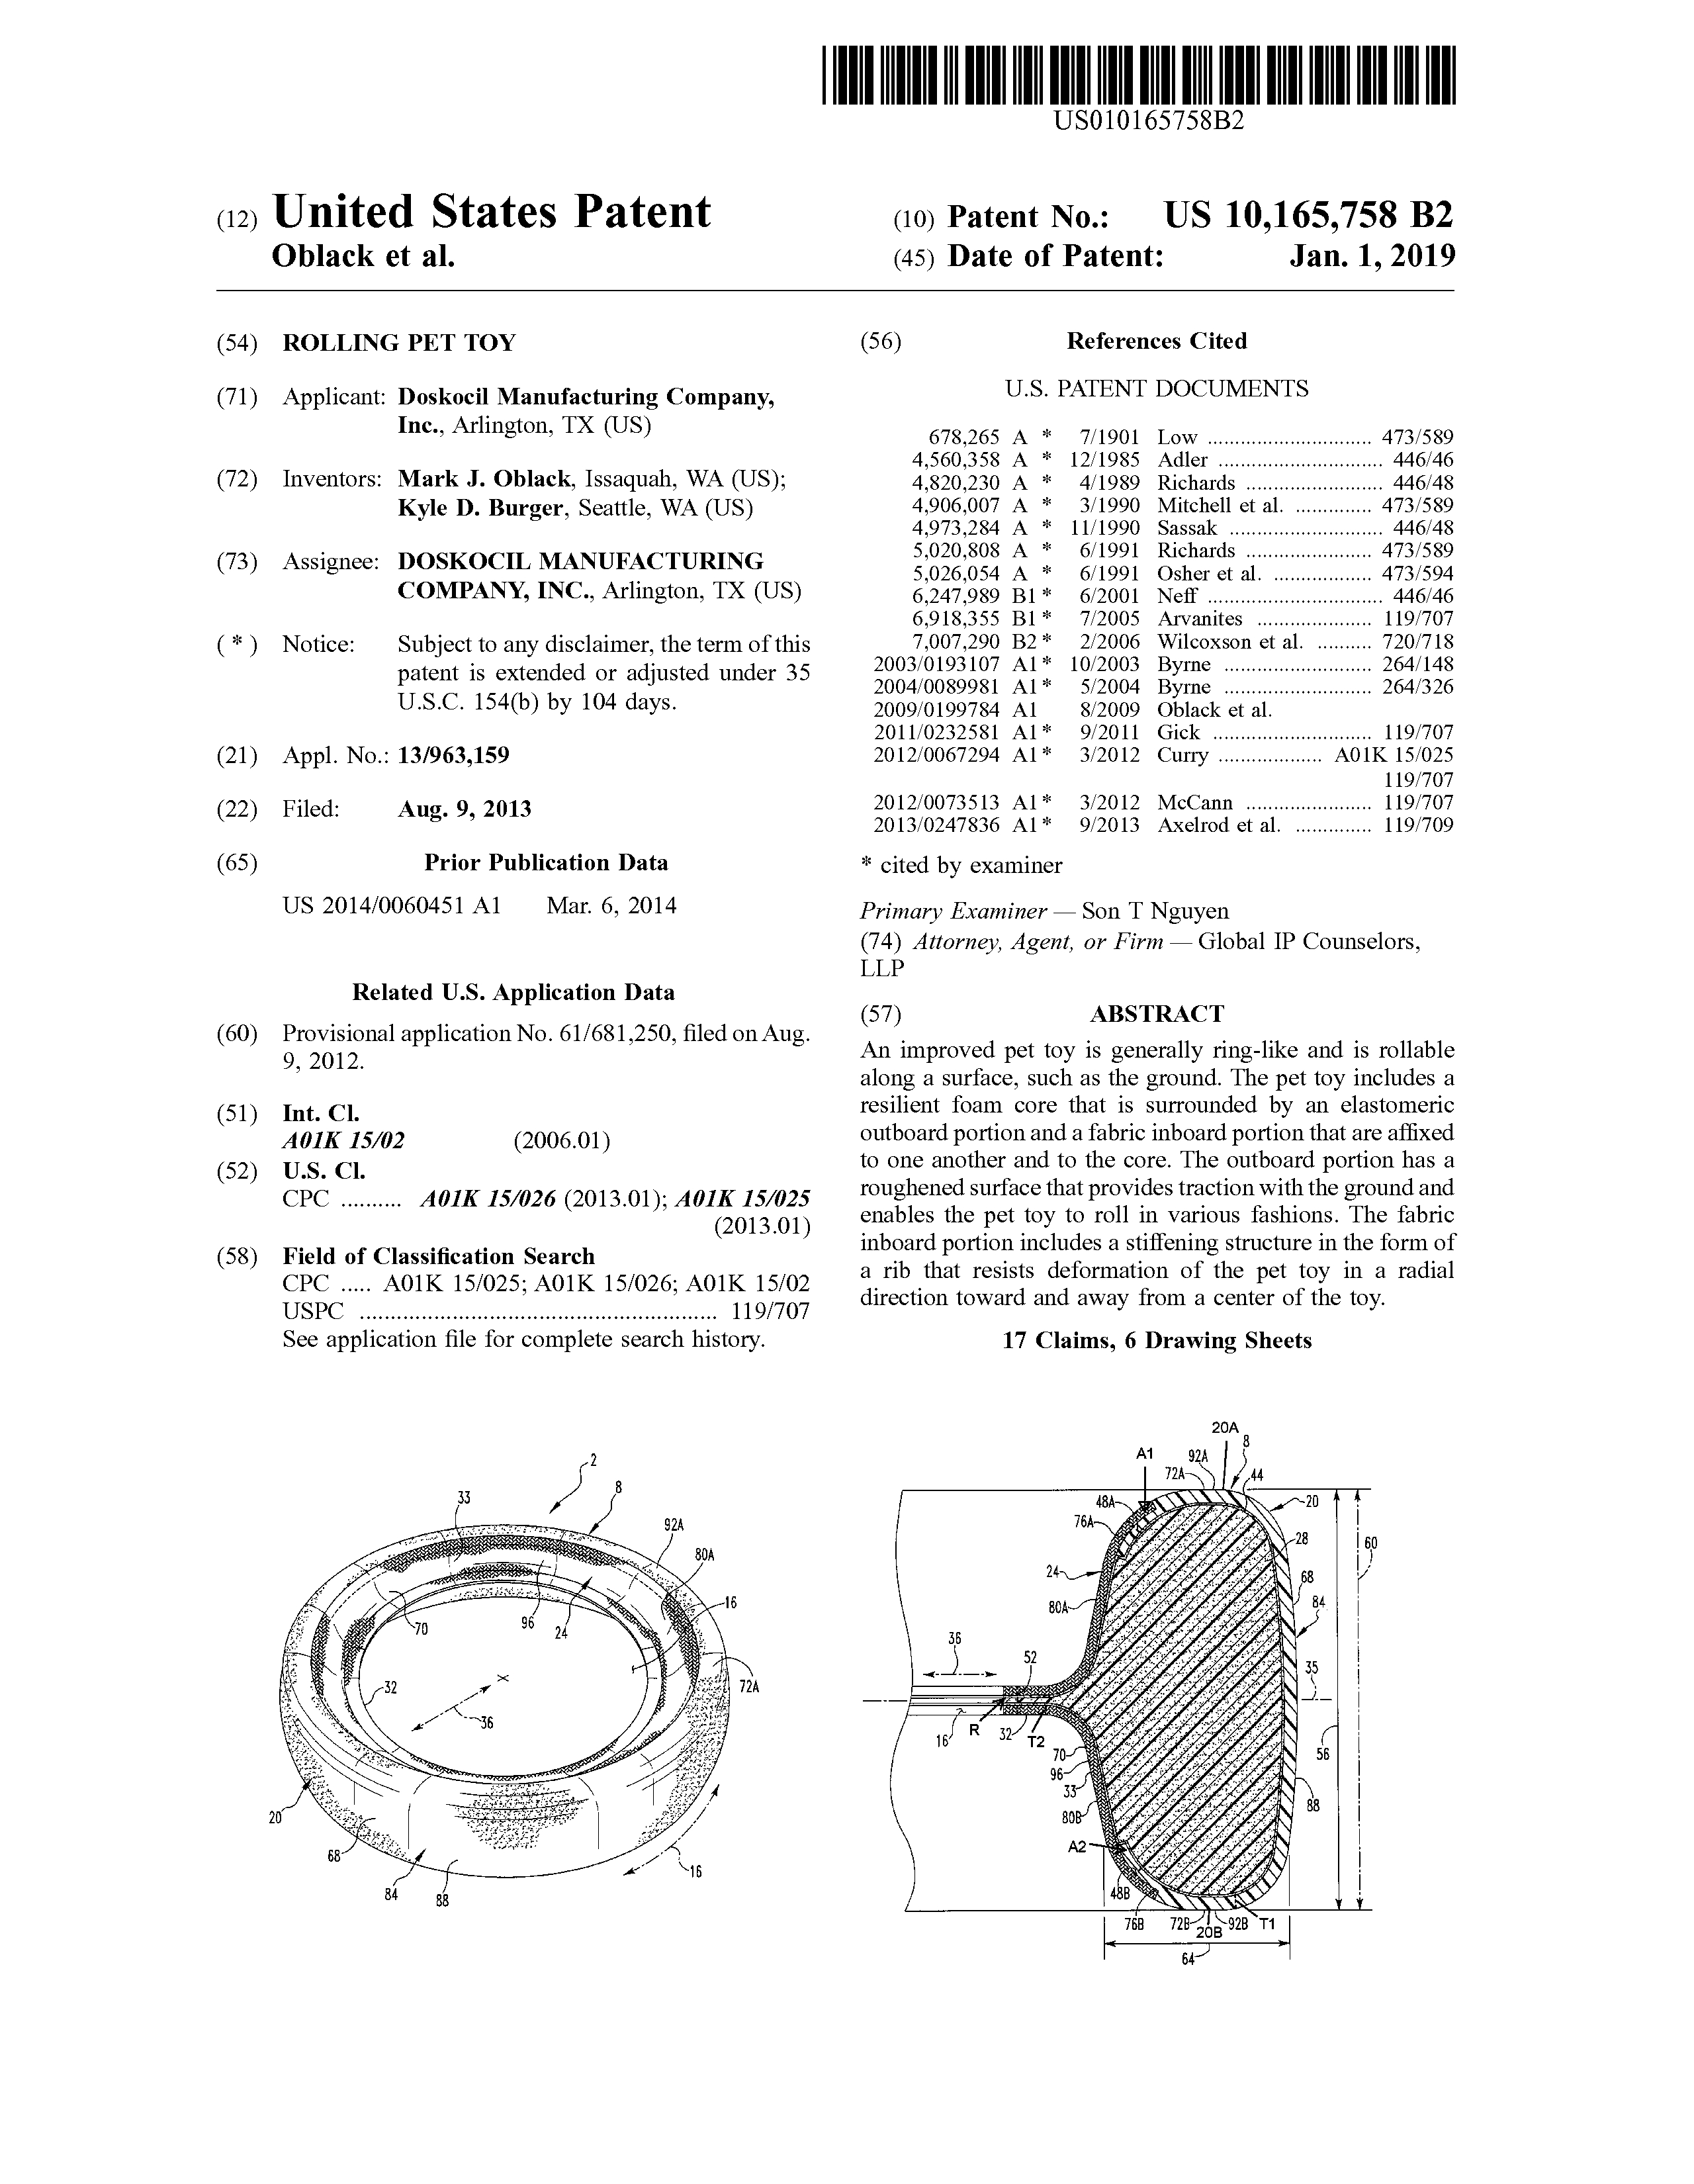patent image: (201, 1398, 1441, 2002)
